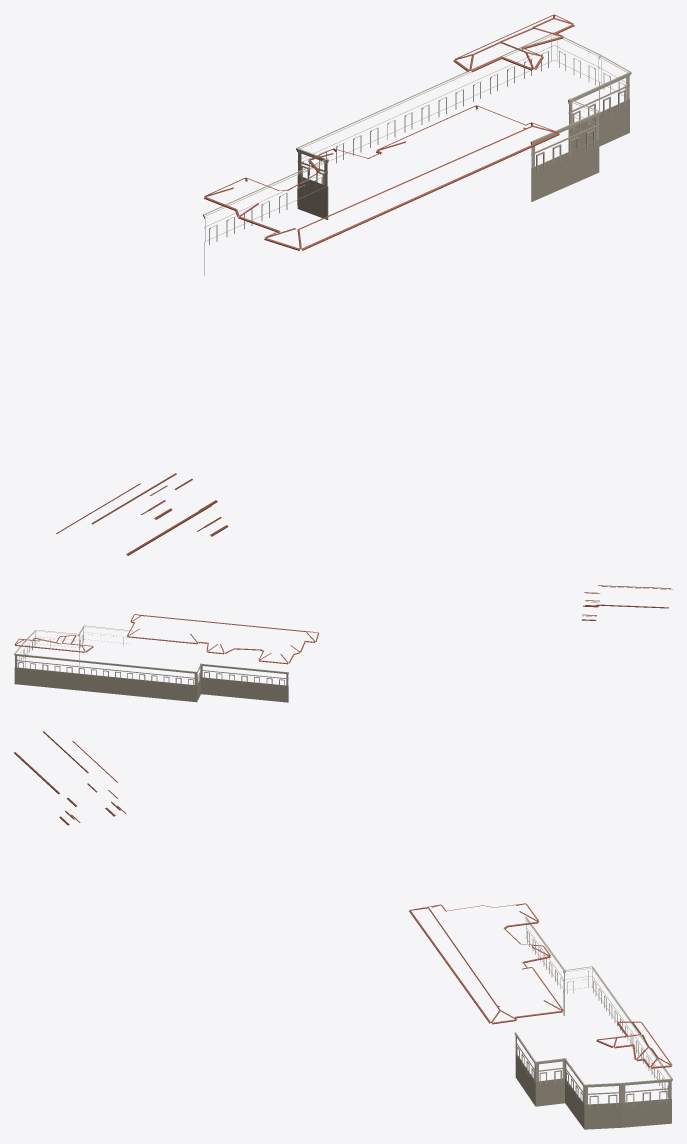
The picture shows the model from 3 angles, top to bottom: view 1: azimuth 30°, elevation 25°; view 2: azimuth 150°, elevation 25°; view 3: azimuth 270°, elevation 25°; orthographic projection. The views are drawn at different scales.
Visible parts, largest first — view 1: detail; view 2: detail; view 3: detail.
Part boxes in pixels (x1,y1,x2,y2): detail: [56, 14, 631, 555]; detail: [14, 585, 672, 702]; detail: [14, 731, 672, 1129].
Bounding box in the file's own units: 155 × 15.62 × 129.
